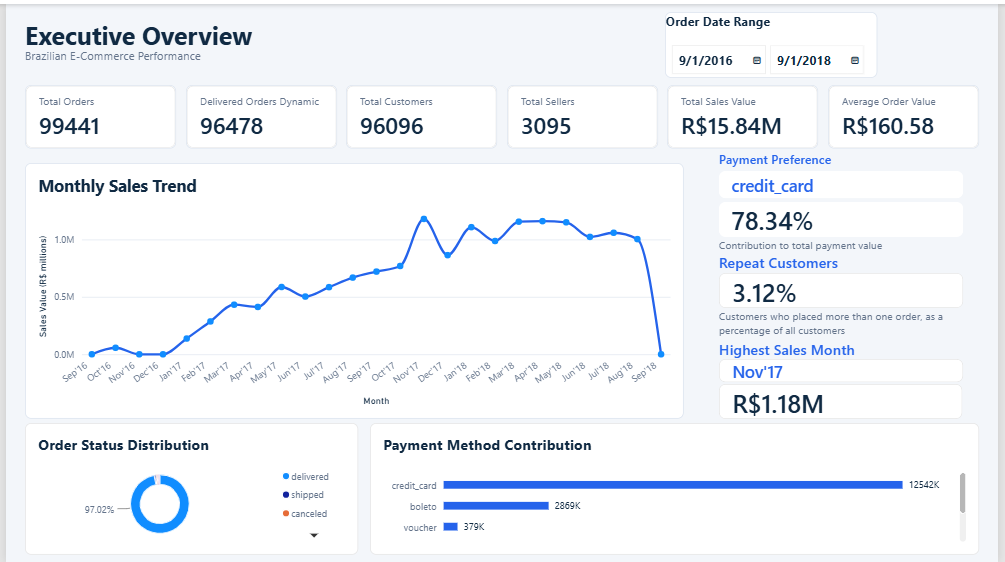

Layout of this report page (visuals, bound fields, positions):
{"tool":"powerbi","page":{"name":"Executive Overview","canvas":[1280,720],"ordinal":0},"visuals":[{"type":"lineChart","title":"Monthly Sales Trend","fields":{"Category":["vw_MonthlySalesPerformance.MonthYear"],"Y":["Sum(vw_MonthlySalesPerformance.TotalSalesValue)"]},"box":[24,205,850,330],"z":0},{"type":"cardVisual","fields":{"Data":["vw_PaymentMethodPerformance.Top Payment Method"]},"box":[920,215,315,35],"z":0,"group":"g1"},{"type":"cardVisual","fields":{"Data":["vw_PaymentMethodPerformance.Top Payment Contribution %"]},"box":[920,255,315,45],"z":1000,"group":"g1"},{"type":"cardVisual","fields":{"Data":["vw_MonthlySalesPerformance.Top Sales Month"]},"box":[920,458,315,30],"z":1000},{"type":"textbox","box":[24,57,700,24],"z":2000},{"type":"cardVisual","fields":{"Data":["vw_MonthlySalesPerformance.Top Sales Value"]},"box":[919.8,490.4,314,45],"z":3000},{"type":"textbox","box":[24,18,600,43],"z":4000},{"type":"cardVisual","title":"TotalOrders","fields":{"Data":["DimMonth.Total Orders Dynamic"]},"box":[25,105,195,82],"z":5000},{"type":"cardVisual","title":"TotalOrders","fields":{"Data":["DimMonth.Delivered Orders Dynamic"]},"box":[232,105,195,82],"z":6000},{"type":"cardVisual","title":"TotalOrders","fields":{"Data":["DimMonth.Total Customers Dynamic"]},"box":[439,105,195,82],"z":7000},{"type":"cardVisual","title":"TotalOrders","fields":{"Data":["DimMonth.Total Sellers Dynamic"]},"box":[646,105,195,82],"z":8000},{"type":"cardVisual","title":"TotalOrders","fields":{"Data":["DimMonth.Total Sales Value Dynamic"]},"box":[853,105,195,82],"z":9000},{"type":"cardVisual","title":"TotalOrders","fields":{"Data":["DimMonth.Average Order Value Dynamic"]},"box":[1060,105,195,82],"z":10000},{"type":"donutChart","title":"Order Status Distribution","fields":{"Category":["vw_MonthlyOrderStatusDistribution.OrderStatus"],"Y":["Sum(vw_MonthlyOrderStatusDistribution.TotalOrders)"]},"box":[24.5,540.6,430,170],"z":11000},{"type":"clusteredBarChart","title":"Payment Method Contribution","fields":{"Category":["vw_MonthlyPaymentMethodPerformance.PaymentMethod"],"Y":["Sum(vw_MonthlyPaymentMethodPerformance.TotalPaymentValue)"]},"box":[470,540,786,170],"z":12000},{"type":"textbox","box":[920,190,315,25],"z":13000},{"type":"group","id":"g1","title":"Group 1","box":[920,215,315,85],"z":14000},{"type":"textbox","box":[920,300,315,25],"z":15000},{"type":"cardVisual","fields":{"Data":["DimMonth.Repeat Customer % Dynamic"]},"box":[920,347,315,45],"z":16000},{"type":"textbox","box":[920,320,315,25],"z":17000},{"type":"textbox","box":[920,392,315,40],"z":18000},{"type":"textbox","box":[920,432,315,25],"z":19000},{"type":"slicer","title":"Order Date Range","fields":{"Values":["DimMonth.MonthStart"]},"box":[850.3,10.3,273.5,85.2],"z":20000}]}

Visuals, with their boxes in screenshot pixels (x1, y1, x2, y2), scaled from the page's 1280x720 canvas onto the 1005x562 screenshot:
"Monthly Sales Trend" lineChart: <bbox>19, 160, 686, 418</bbox>
cardVisual - vw_PaymentMethodPerformance.Top Payment Method: <bbox>722, 168, 970, 195</bbox>
cardVisual - vw_PaymentMethodPerformance.Top Payment Contribution %: <bbox>722, 199, 970, 234</bbox>
cardVisual - vw_MonthlySalesPerformance.Top Sales Month: <bbox>722, 357, 970, 381</bbox>
textbox: <bbox>19, 44, 568, 63</bbox>
cardVisual - vw_MonthlySalesPerformance.Top Sales Value: <bbox>722, 383, 969, 418</bbox>
textbox: <bbox>19, 14, 490, 48</bbox>
"TotalOrders" cardVisual: <bbox>20, 82, 173, 146</bbox>
"TotalOrders" cardVisual: <bbox>182, 82, 335, 146</bbox>
"TotalOrders" cardVisual: <bbox>345, 82, 498, 146</bbox>
"TotalOrders" cardVisual: <bbox>507, 82, 660, 146</bbox>
"TotalOrders" cardVisual: <bbox>670, 82, 823, 146</bbox>
"TotalOrders" cardVisual: <bbox>832, 82, 985, 146</bbox>
"Order Status Distribution" donutChart: <bbox>19, 422, 357, 555</bbox>
"Payment Method Contribution" clusteredBarChart: <bbox>369, 422, 986, 554</bbox>
textbox: <bbox>722, 148, 970, 168</bbox>
"Group 1" group: <bbox>722, 168, 970, 234</bbox>
textbox: <bbox>722, 234, 970, 254</bbox>
cardVisual - DimMonth.Repeat Customer % Dynamic: <bbox>722, 271, 970, 306</bbox>
textbox: <bbox>722, 250, 970, 269</bbox>
textbox: <bbox>722, 306, 970, 337</bbox>
textbox: <bbox>722, 337, 970, 357</bbox>
"Order Date Range" slicer: <bbox>668, 8, 882, 75</bbox>
